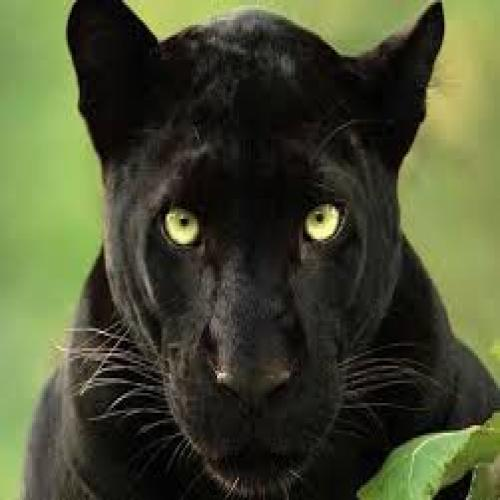panther-endangered: (55, 1, 462, 493)
